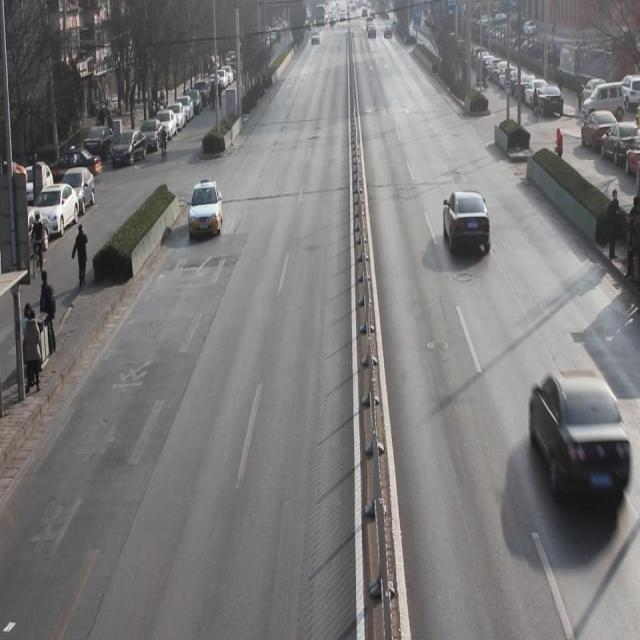car: (528, 371, 625, 502), (442, 190, 492, 254), (188, 178, 225, 238)
